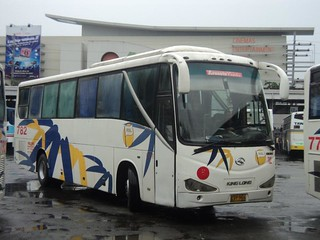bus: (14, 45, 289, 212)
